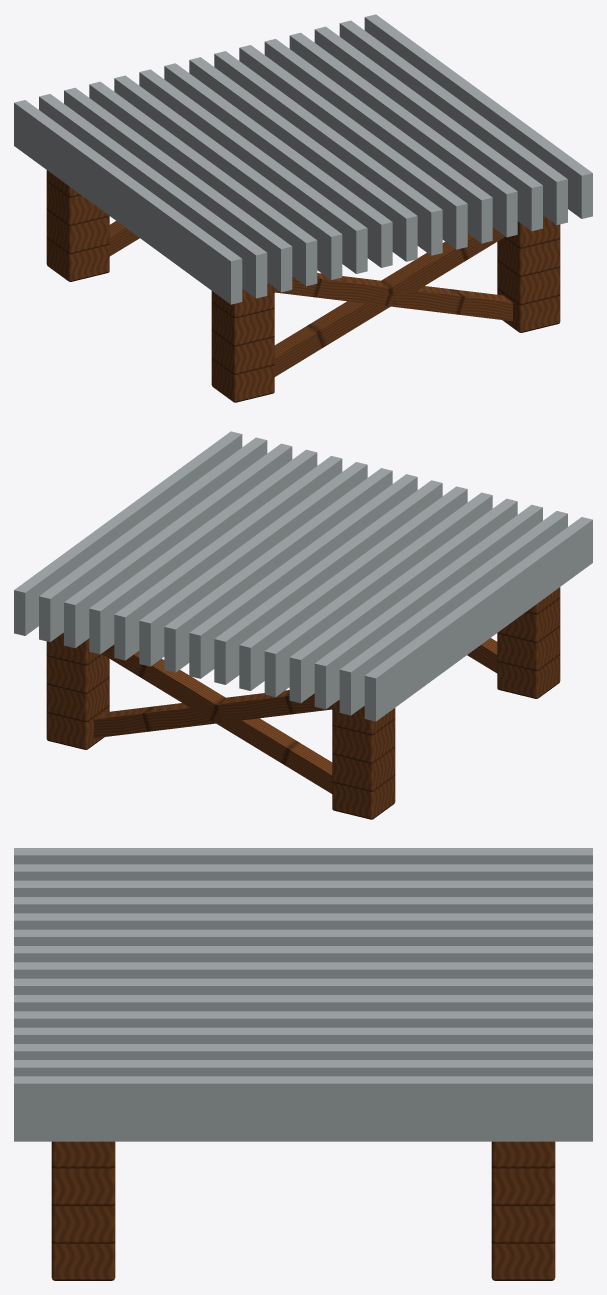
Rendered from prehistoric-survivor-settlement-woven-sleep-platform-3e7e8014__23178.glb.
3 views of the same model, one above another, from view 1: azimuth 30°, elevation 25°; view 2: azimuth 150°, elevation 25°; view 3: azimuth 270°, elevation 25° (orthographic). The views are drawn at different scales.
Parts seen in each view (by area): view 1: woven-sleep-platform; view 2: woven-sleep-platform; view 3: woven-sleep-platform.
Part boxes in pixels (<box>): woven-sleep-platform: <box>14,14,592,402</box>; woven-sleep-platform: <box>14,431,592,819</box>; woven-sleep-platform: <box>14,848,592,1280</box>.
Size of the model in its own units: 1.93 by 0.7999 by 2.
2 materials, 1 textured.
